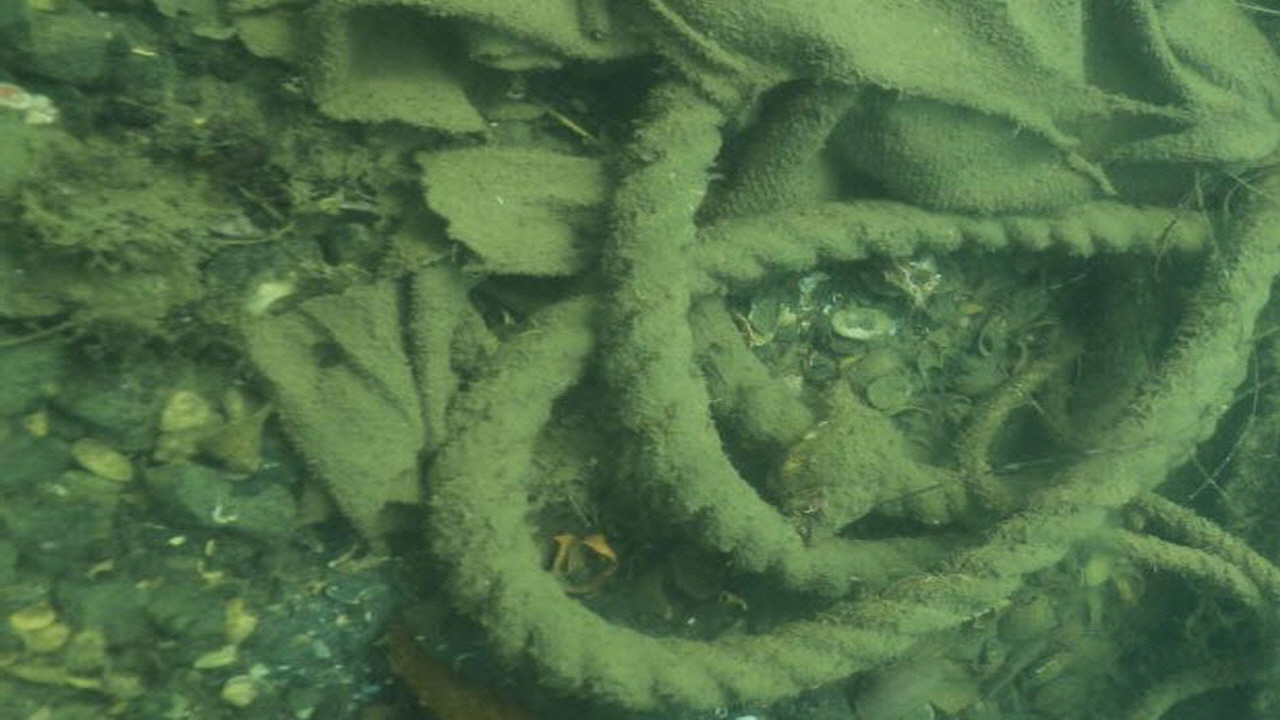bundle of ropes: (424, 80, 1280, 720)
